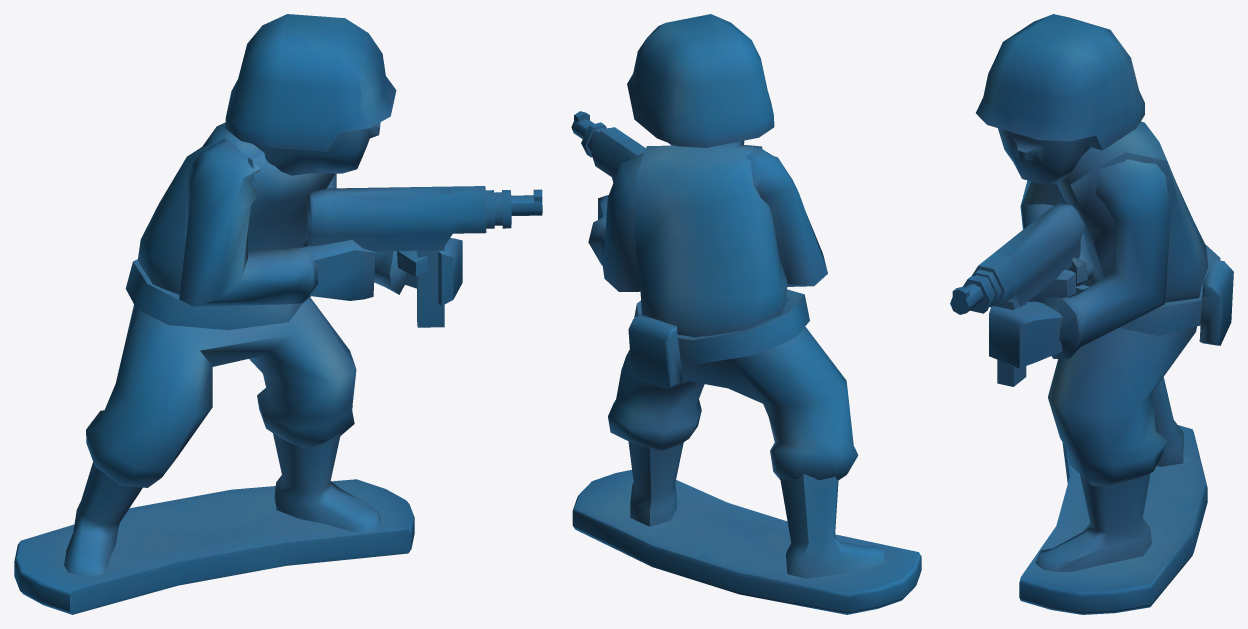
The model's file is 0-soldier_blue.fbx.
3 views of the same model, side by side, from view 1: azimuth 30°, elevation 25°; view 2: azimuth 150°, elevation 25°; view 3: azimuth 270°, elevation 25° (orthographic). The views are drawn at different scales.
Visible parts, largest first — view 1: 0-soldier_blue; view 2: 0-soldier_blue; view 3: 0-soldier_blue.
Part boxes in pixels (<box>): 0-soldier_blue: <box>14,14,542,614</box>; 0-soldier_blue: <box>571,14,921,614</box>; 0-soldier_blue: <box>950,14,1233,614</box>.
Size of the model in its own units: 85.86 by 98.9 by 47.7.
